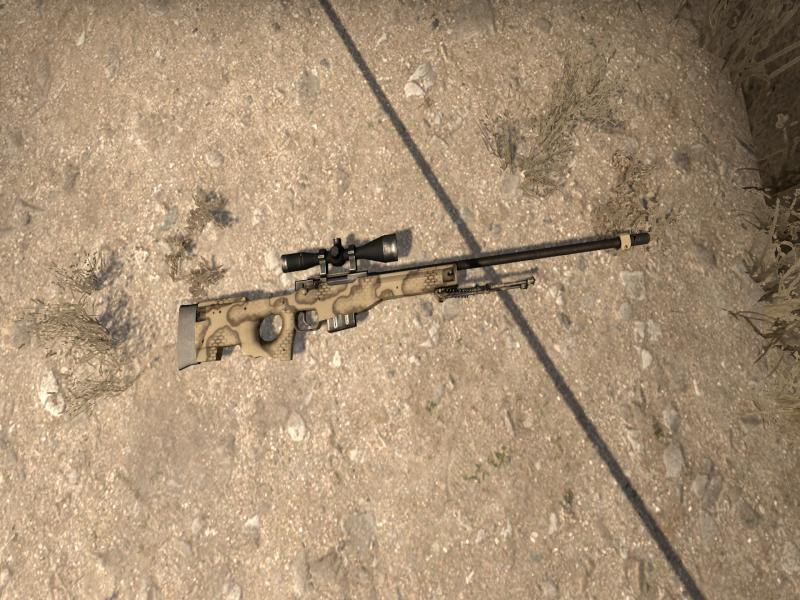AWP: (177, 232, 652, 368)
